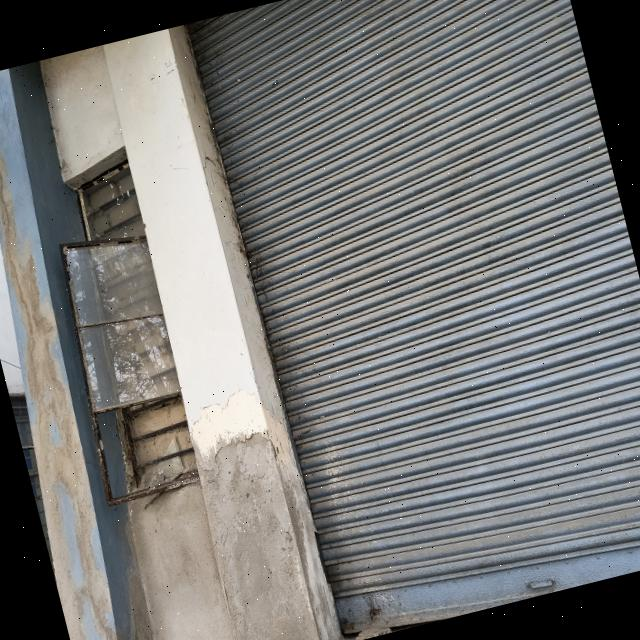peeling: (0, 94, 117, 640), (121, 433, 322, 640), (187, 387, 292, 466)
